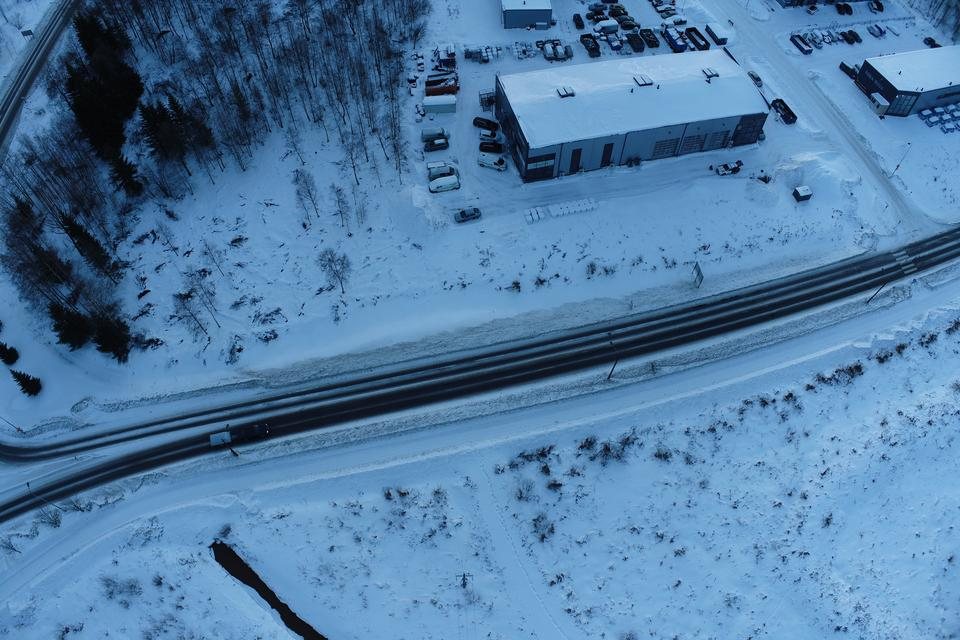intersection: (840, 183, 960, 297)
